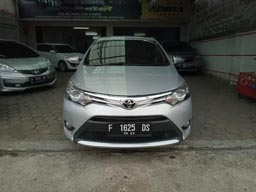plat: (106, 122, 153, 131)
